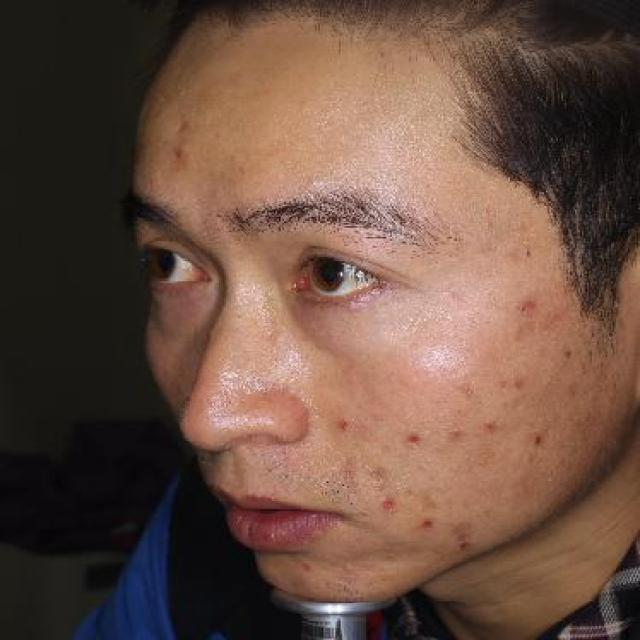dark spot: (512, 291, 548, 318), (392, 426, 433, 449), (325, 411, 359, 437), (414, 512, 440, 537), (363, 460, 392, 482), (524, 429, 552, 451), (375, 492, 400, 516), (556, 346, 580, 366)
papules: (173, 143, 202, 163), (300, 171, 325, 189)
